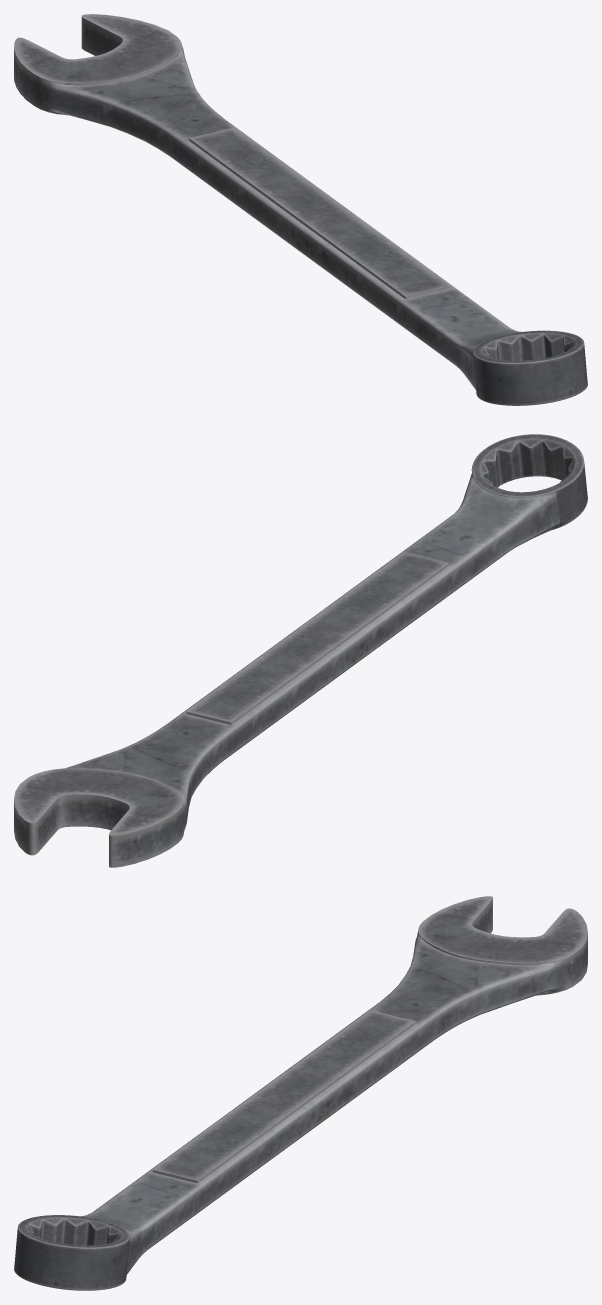
File: spanner.glb
The picture shows the model from 3 angles, top to bottom: view 1: azimuth 30°, elevation 25°; view 2: azimuth 150°, elevation 25°; view 3: azimuth 330°, elevation 25°; orthographic projection.
Parts seen in each view (by area): view 1: combination_wrench; view 2: combination_wrench; view 3: combination_wrench.
Part boxes in pixels (x1=…): combination_wrench: x1=14, y1=14, x2=587, y2=405; combination_wrench: x1=14, y1=434, x2=587, y2=867; combination_wrench: x1=14, y1=896, x2=587, y2=1290.
Size of the model in its own units: 0.0566 by 0.0215 by 0.337.
1 material, 1 textured.
